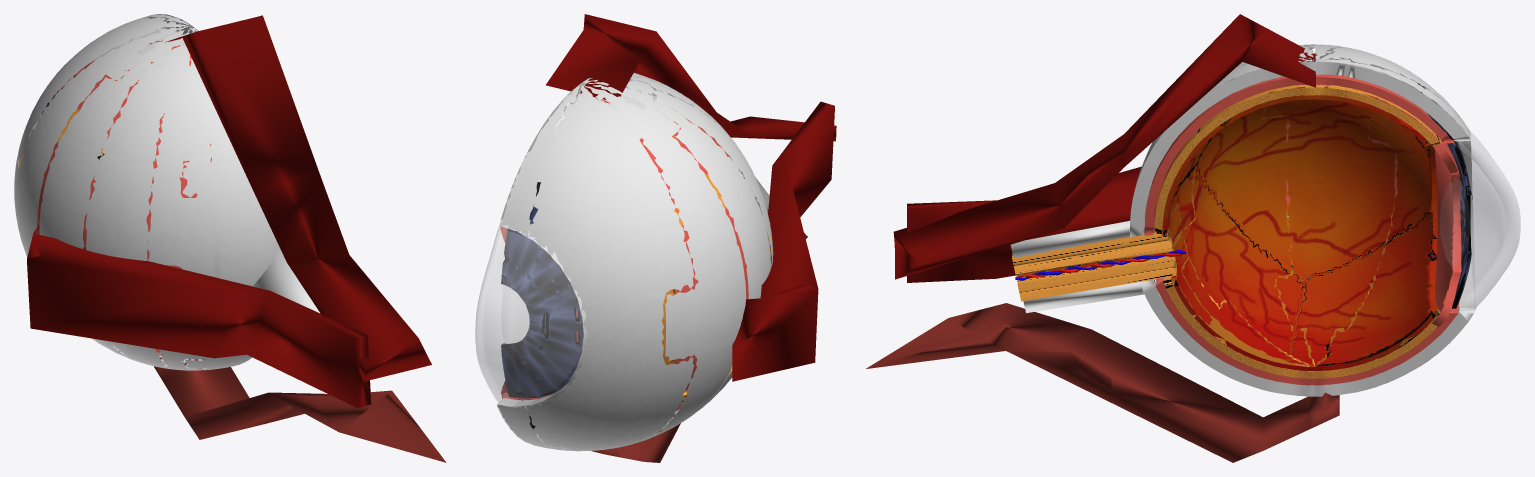
File: eye-cross.glb
3 renders of one model, left to right at view 1: azimuth 30°, elevation 25°; view 2: azimuth 150°, elevation 25°; view 3: azimuth 270°, elevation 25°, orthographic. The views are drawn at different scales.
Parts seen in each view (by area): view 1: Sclera_Material.006_0 (×5), Cube.003_Material.018_0, Cube.001_Material.016_0, Cube.002_Material.017_0, Cylinder.006_Material.006_0, Muscle 1_Material.013_0; view 2: Sclera_Material.006_0 (×6), Cornea_Material.001_0, Cube.003_Material.018_0, iris_Material.002_0, Cube.001_Material.016_0, Cube.002_Material.017_0, Choroid_Material.009_0; view 3: Retina_Material.008_0 (×6), Cube.002_Material.017_0, Cube.001_Material.016_0, Sclera_Material.006_0 (×3), Muscle 1_Material.013_0 (×2), Cylinder.007_Material.004_0, Cornea_Material.001_0, Choroid_Material.009_0, Cube.003_Material.018_0, Muscle 2_Material.007_0, Cylinder.006_Material.006_0, Lens_Material.003_0 (+1 smaller).
Part boxes in pixels (x1,y1,x2,y2): Sclera_Material.006_0 (×5): (14,14,280,370); Cube.003_Material.018_0: (27,225,371,408); Cube.001_Material.016_0: (165,15,431,381); Cube.002_Material.017_0: (154,357,446,462); Cylinder.006_Material.006_0: (253,250,320,313); Muscle 1_Material.013_0: (37,52,190,268); Sclera_Material.006_0 (×6): (496,73,773,451); Cornea_Material.001_0: (475,221,588,413); Cube.003_Material.018_0: (732,101,834,381); iris_Material.002_0: (501,182,583,429); Cube.001_Material.016_0: (546,14,836,141); Cube.002_Material.017_0: (591,210,807,462); Choroid_Material.009_0: (639,99,714,411); Retina_Material.008_0 (×6): (1162,85,1437,370); Cube.002_Material.017_0: (866,303,1339,462); Cube.001_Material.016_0: (893,14,1315,279); Sclera_Material.006_0 (×3): (1130,47,1476,396); Muscle 1_Material.013_0 (×2): (1154,85,1441,378); Cylinder.007_Material.004_0: (1012,230,1176,301); Cornea_Material.001_0: (1453,124,1520,307); Choroid_Material.009_0: (1144,77,1459,385); Cube.003_Material.018_0: (907,166,1141,282); Muscle 2_Material.007_0: (1154,78,1461,371); Cylinder.006_Material.006_0: (1010,221,1158,313); Lens_Material.003_0: (1440,179,1469,265).
Bounding box in the file's own units: 1.45 × 2.47 × 3.53.
14 materials, 4 textured.
